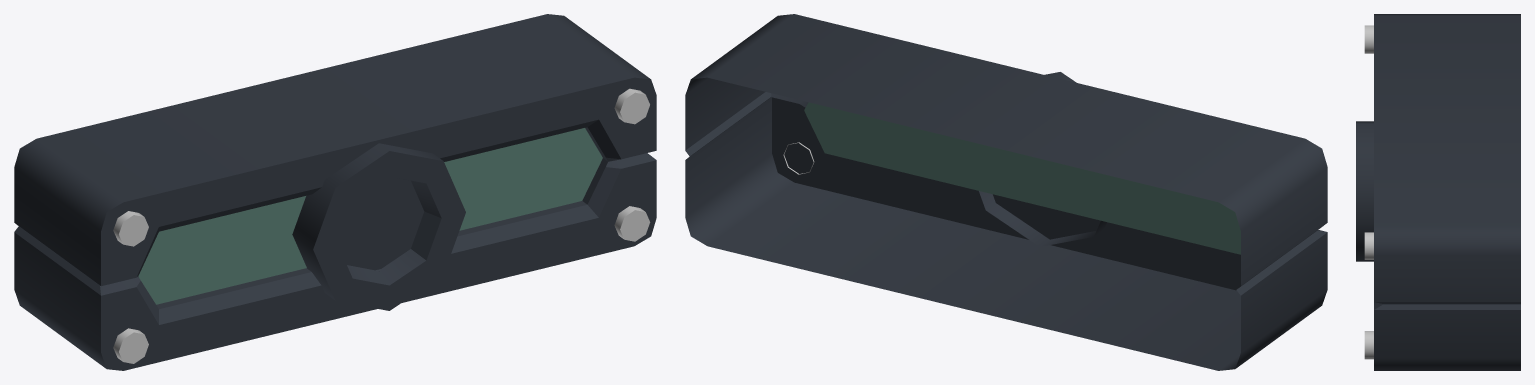
The model's file is gem.fbx.
3 renders of one model, left to right at view 1: azimuth 30°, elevation 25°; view 2: azimuth 150°, elevation 25°; view 3: azimuth 270°, elevation 25°, orthographic. The views are drawn at different scales.
Visible parts, largest first — view 1: 宝石机关; view 2: 宝石机关; view 3: 宝石机关.
Part boxes in pixels (x1=…): 宝石机关: x1=14, y1=14, x2=656, y2=370; 宝石机关: x1=685, y1=14, x2=1327, y2=370; 宝石机关: x1=1356, y1=14, x2=1520, y2=370.
Bounding box in the file's own units: 125 × 36.34 × 38.11.
